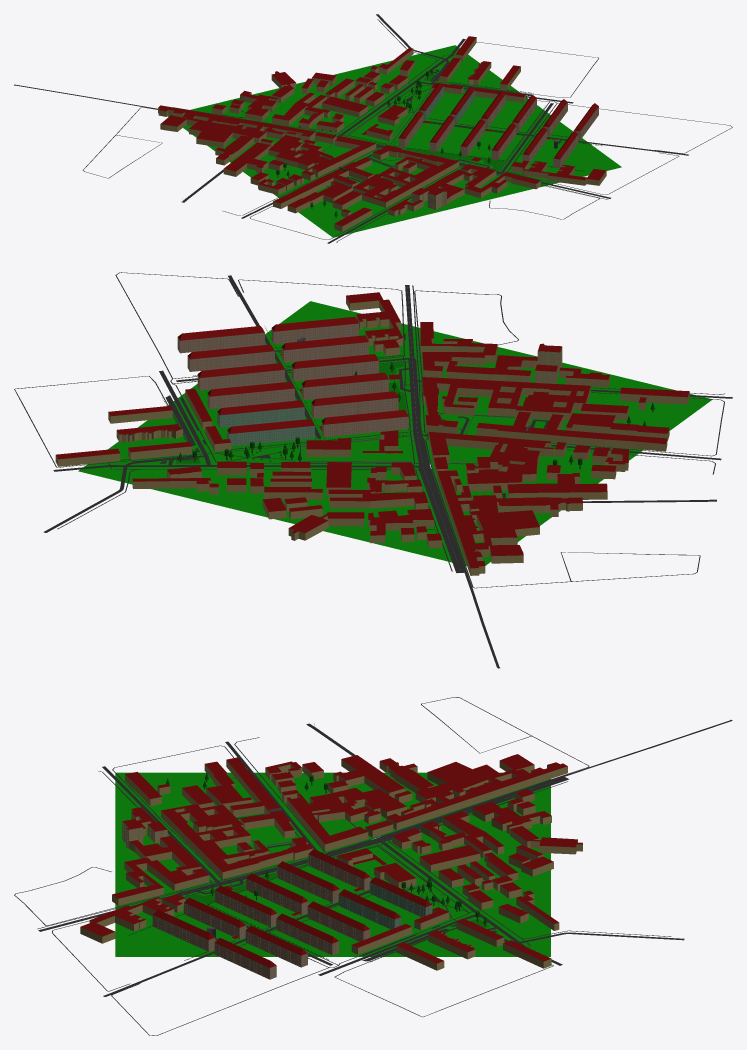
The model's file is milano_2_3d.obj.
3 views of the same model, one above another, from view 1: azimuth 30°, elevation 25°; view 2: azimuth 150°, elevation 25°; view 3: azimuth 270°, elevation 25° (orthographic). The views are drawn at different scales.
Parts seen in each view (by area): view 1: SurfaceArea626, SurfaceArea628, SurfaceArea627, SurfaceArea629, Building509, Building608, Road Via Privata Chiari, Building510, Building583, Building475, Building614, Building487 (+22 smaller); view 2: SurfaceArea626, SurfaceArea627, SurfaceArea629, Road Via Varesina, SurfaceArea628, Building509, Building522, Building524, Building525, Building518, Building538, Building575 (+31 smaller); view 3: SurfaceArea626, SurfaceArea628, SurfaceArea627, SurfaceArea629, Road Via Varesina, Building509, Building574, Building538, Building523, Building526, Building522, Building519 (+33 smaller).
Boxes of the visible parts, <box> form: SurfaceArea626: <box>214,100,533,237</box>; SurfaceArea628: <box>421,80,621,187</box>; SurfaceArea627: <box>167,65,419,150</box>; SurfaceArea629: <box>373,45,502,99</box>; Building509: <box>511,160,606,185</box>; Building608: <box>196,122,236,147</box>; Road Via Privata Chiari: <box>424,103,688,172</box>; Building510: <box>320,157,371,189</box>; Building583: <box>322,96,368,117</box>; Building475: <box>379,167,426,190</box>; Building614: <box>223,157,267,176</box>; Building487: <box>271,71,296,102</box>; SurfaceArea626: <box>260,331,711,520</box>; SurfaceArea627: <box>193,451,546,565</box>; SurfaceArea629: <box>78,422,258,499</box>; Road Via Varesina: <box>405,285,499,668</box>; SurfaceArea628: <box>145,301,420,450</box>; Building509: <box>346,292,403,355</box>; Building522: <box>311,391,398,418</box>; Building524: <box>217,400,304,427</box>; Building525: <box>321,410,408,437</box>; Building518: <box>281,335,368,362</box>; Building538: <box>197,363,284,390</box>; Building575: <box>207,381,294,409</box>; SurfaceArea626: <box>115,772,426,904</box>; SurfaceArea628: <box>115,904,426,956</box>; SurfaceArea627: <box>426,772,550,904</box>; SurfaceArea629: <box>426,904,550,956</box>; Road Via Varesina: <box>37,720,732,931</box>; Building509: <box>80,894,185,943</box>; Building574: <box>152,909,215,951</box>; Building538: <box>276,913,338,955</box>; Building523: <box>214,938,276,979</box>; Building526: <box>245,925,307,967</box>; Building522: <box>277,861,339,902</box>; Building519: <box>215,885,277,927</box>.
Size of the model in its own units: 773 by 20 by 693.
